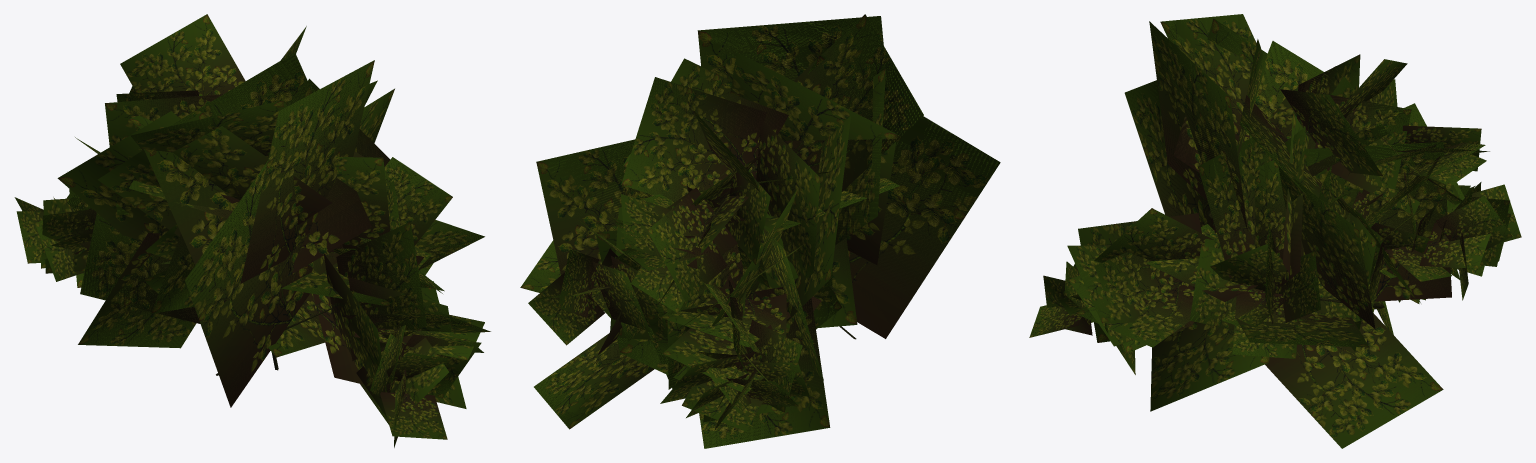
The model's file is BlackBerry.fbx.
3 views of the same model, side by side, from view 1: azimuth 30°, elevation 25°; view 2: azimuth 150°, elevation 25°; view 3: azimuth 270°, elevation 25° (orthographic). The views are drawn at different scales.
Visible parts, largest first — view 1: BlackBerry; view 2: BlackBerry; view 3: BlackBerry.
Boxes of the visible parts, left/top/right/bottom form: BlackBerry: left=14, top=14, right=490, bottom=447; BlackBerry: left=520, top=14, right=1000, bottom=448; BlackBerry: left=1029, top=14, right=1521, bottom=448.
Bounding box in the file's own units: 305 × 284 × 391.
